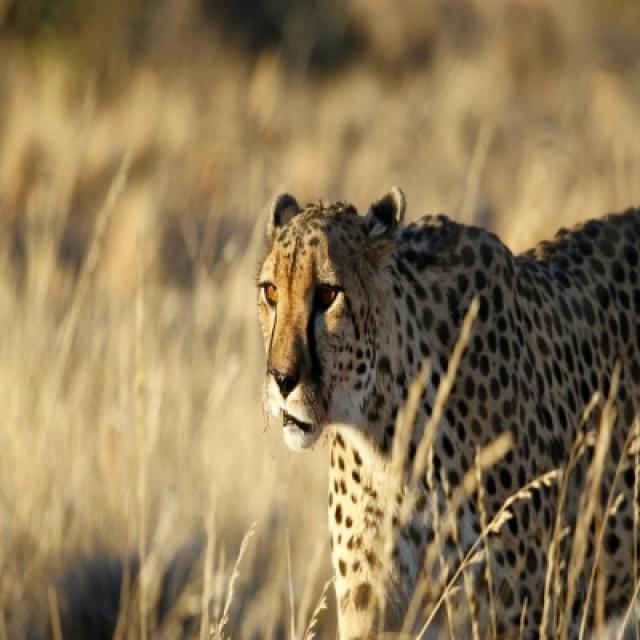Cheetah: (256, 190, 638, 638)
